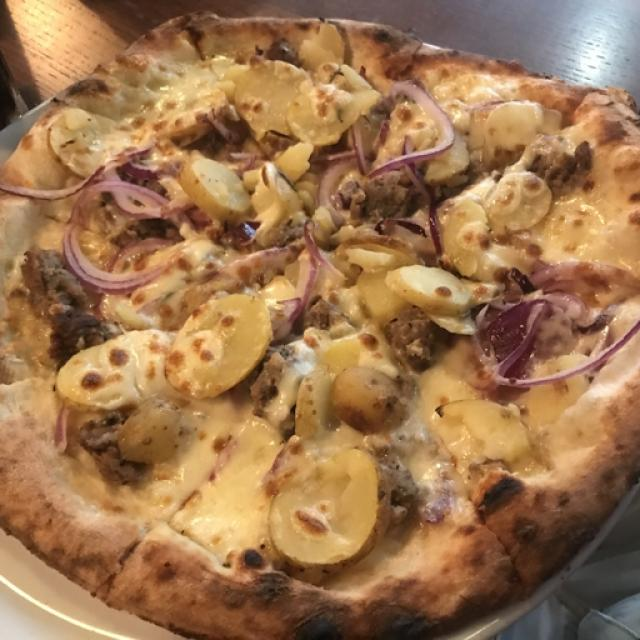pizza: (0, 14, 640, 640)
